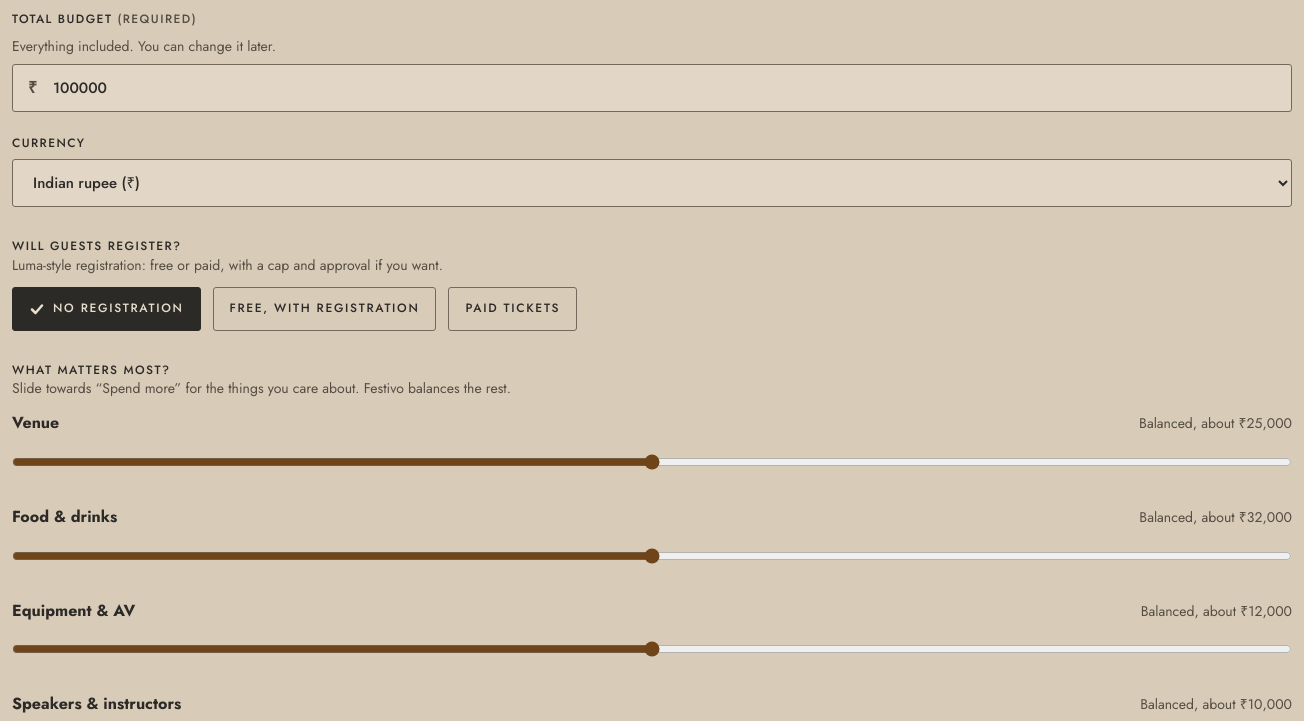
Test: budget step › asks ticketed occasions about registration, price, spots and approval
Expected: the field labelled "Price per ticket" is not shown
Click the radio button labelled "Paid tickets" at (513, 309), box [448,287,577,331]
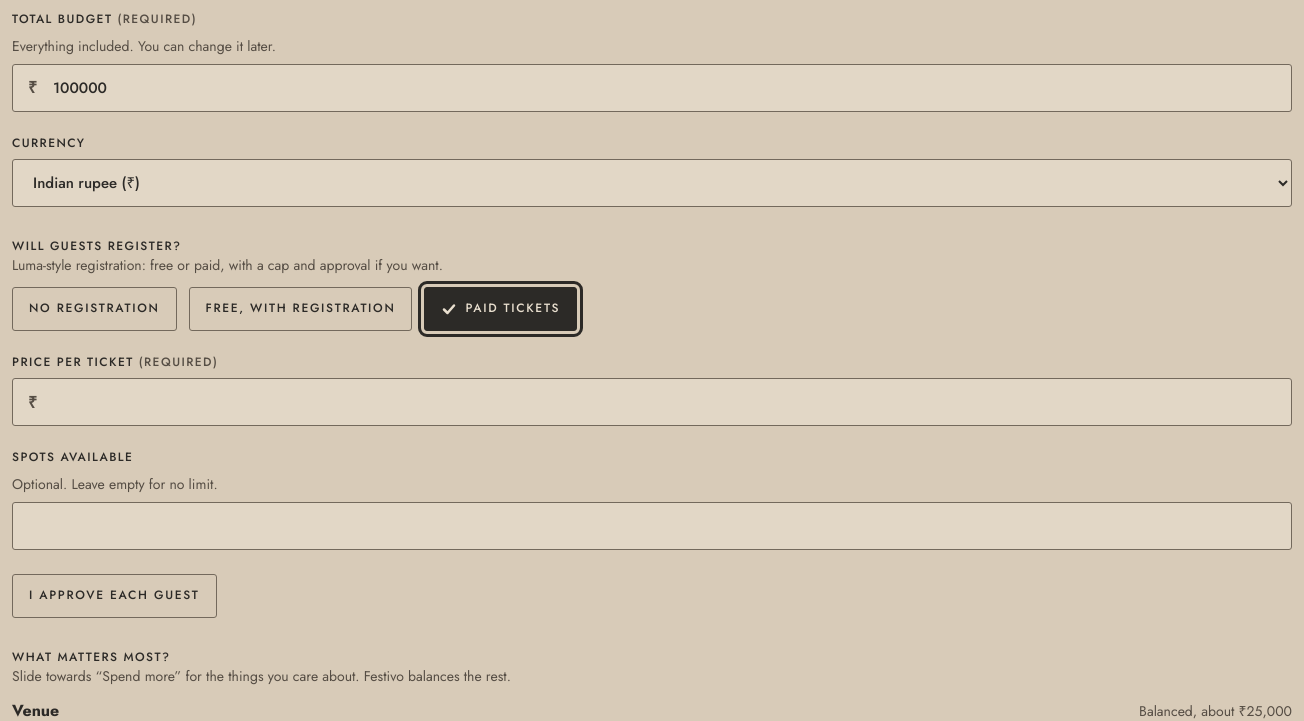
Type "499" into the field labelled "Price per ticket (required)" at (652, 402), box [12,378,1292,426]
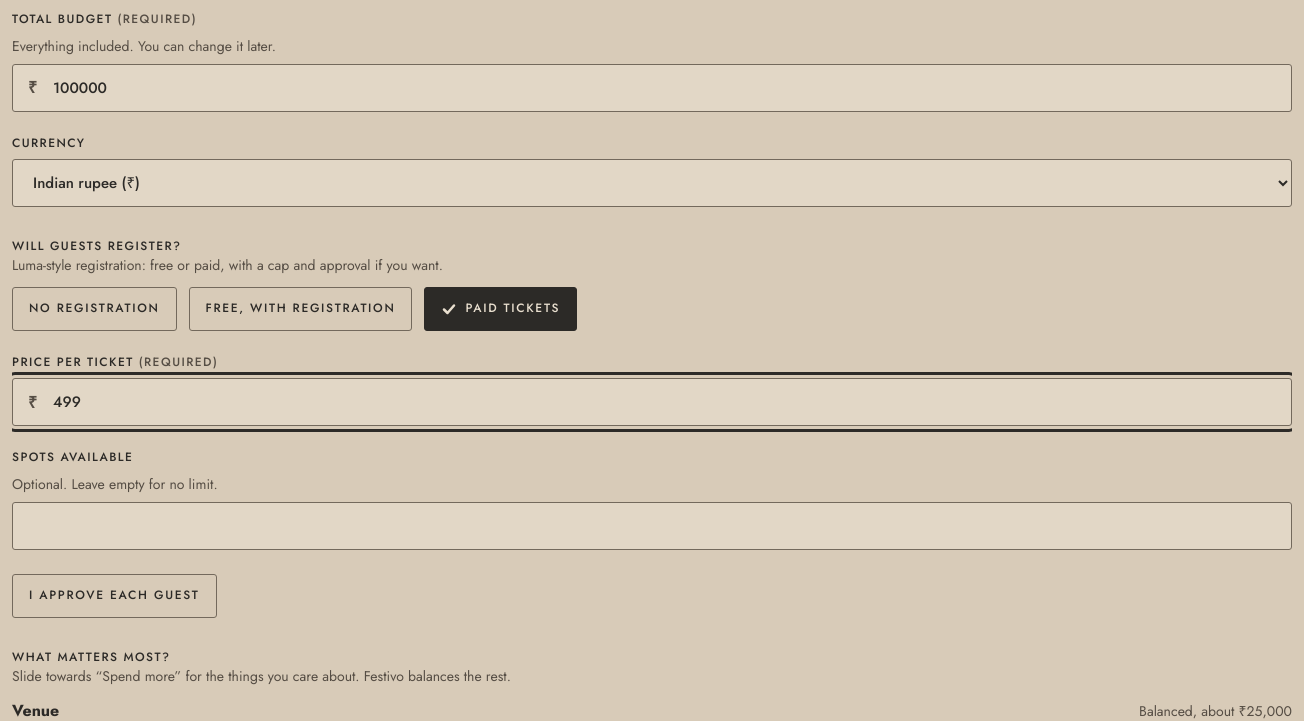
Type "80" into the field labelled "Spots available" at (652, 526), box [12,502,1292,550]
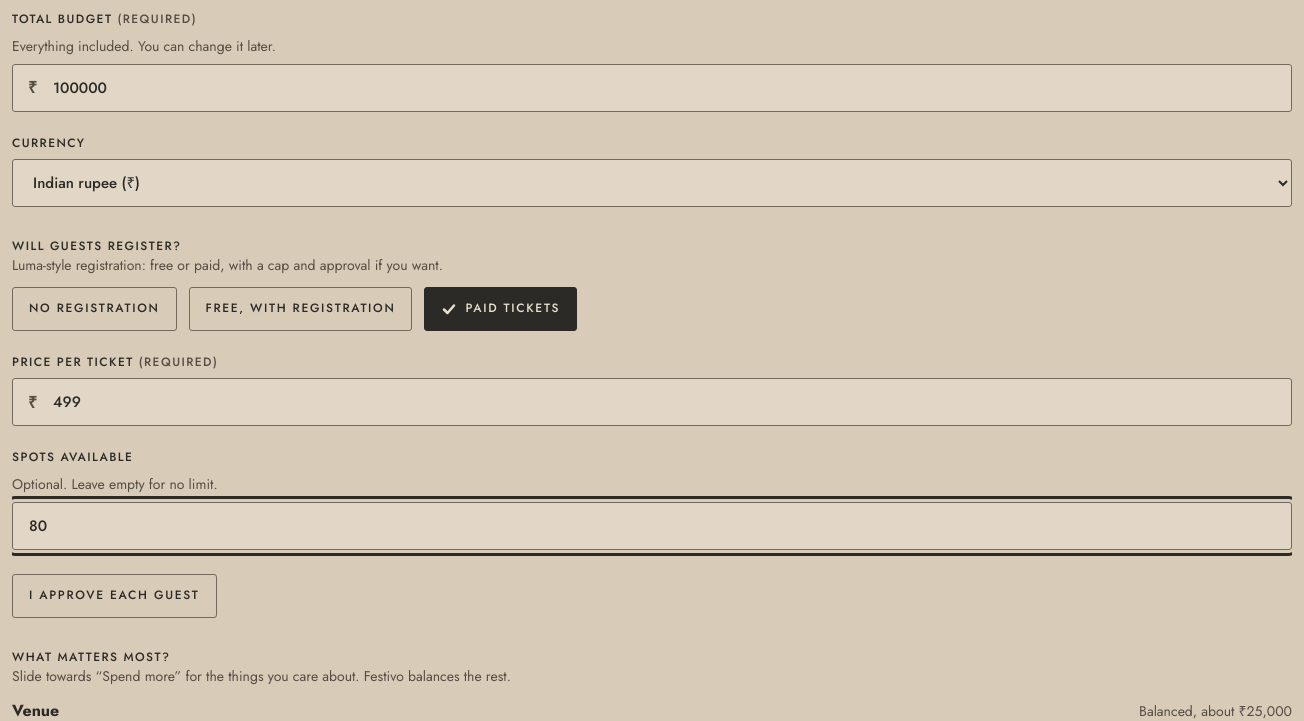
Click the checkbox labelled "I approve each guest" at (114, 596), box [12,574,217,618]
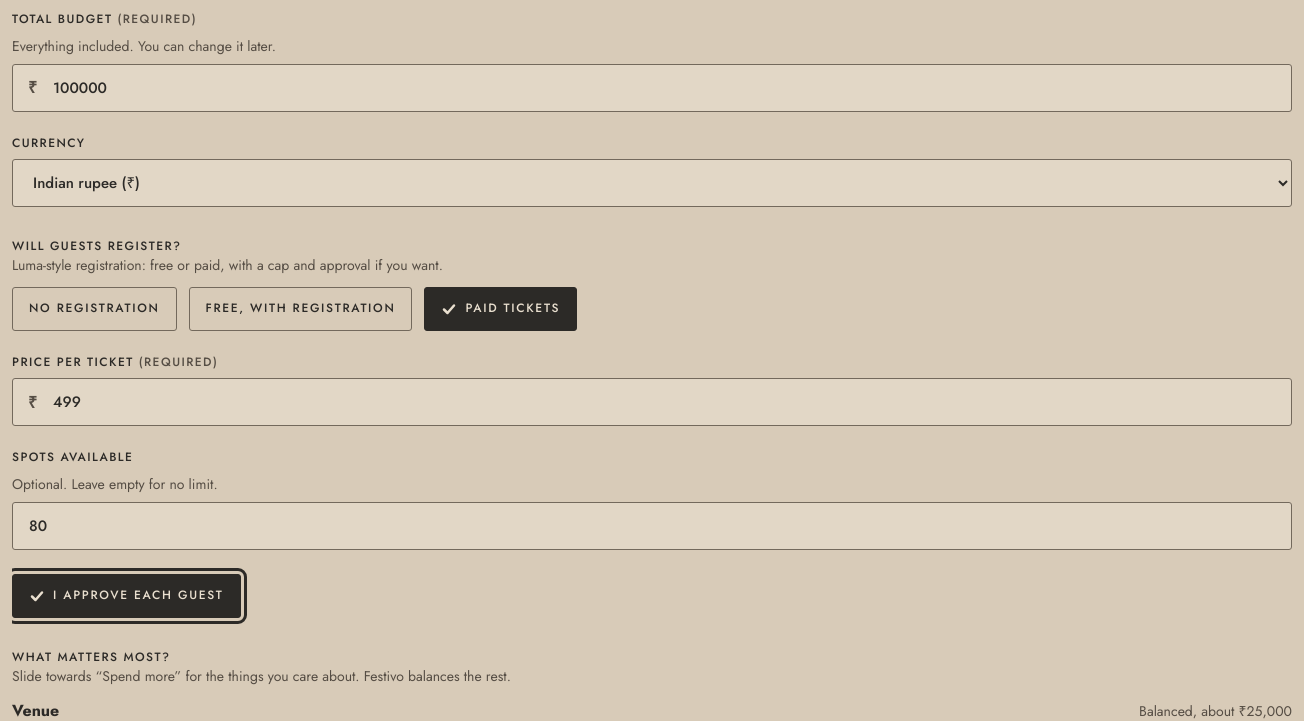
Click the radio button labelled "No registration" at (94, 309), box [12,287,176,331]
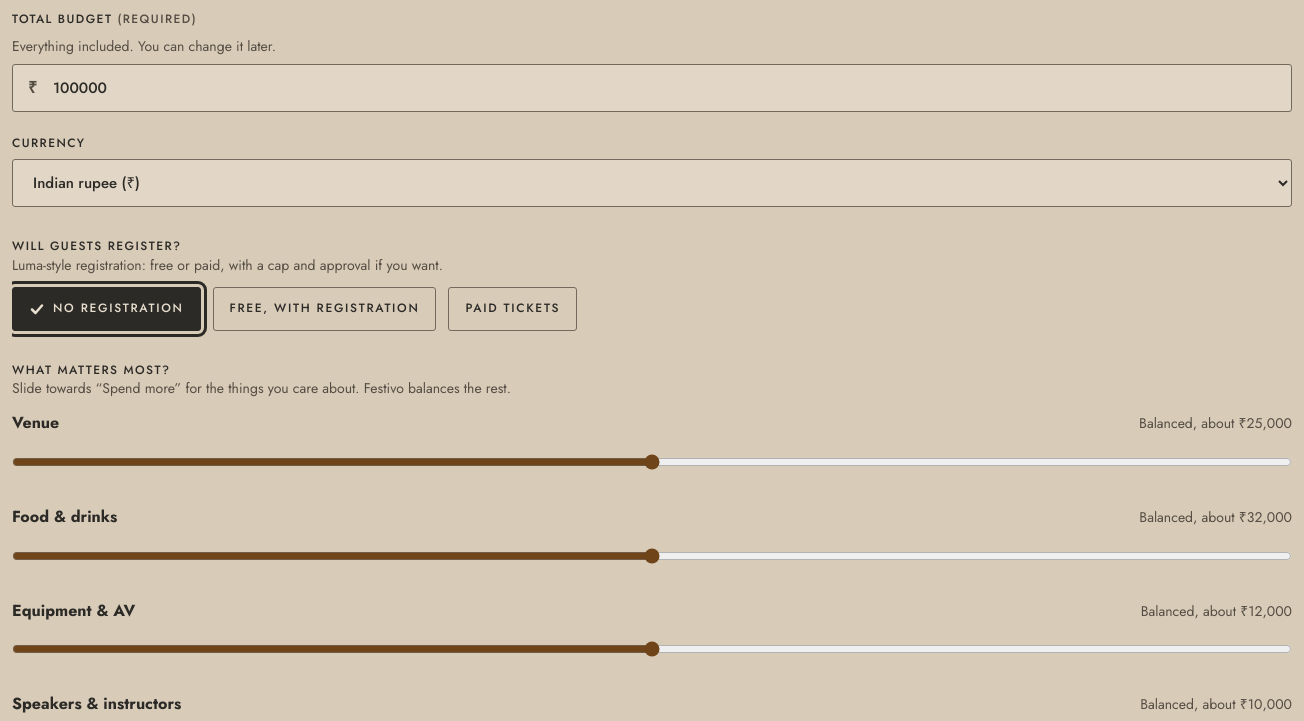
Now the label "Spots available" is gone
